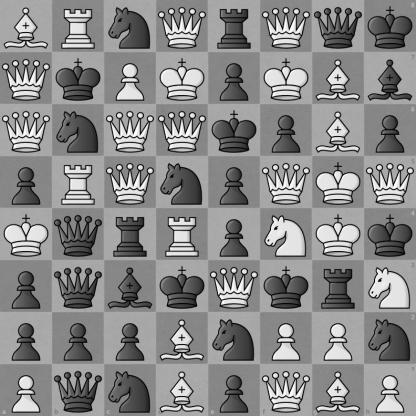B: (156, 364, 209, 416), (312, 364, 364, 416), (1, 1, 52, 52), (157, 313, 208, 364), (313, 53, 364, 104), (313, 105, 364, 156)
K: (1, 209, 52, 260), (157, 53, 208, 104), (261, 53, 312, 104), (313, 157, 364, 208), (313, 209, 364, 260)
N: (364, 260, 416, 312), (261, 209, 312, 260)
P: (0, 364, 52, 416), (364, 364, 416, 416), (105, 53, 156, 104), (261, 313, 312, 364), (313, 313, 364, 364)
Q: (364, 156, 416, 209), (260, 364, 312, 416), (1, 53, 52, 104), (1, 105, 52, 156), (105, 105, 156, 156), (105, 157, 156, 208), (157, 1, 208, 52), (157, 105, 208, 156), (209, 261, 260, 312), (261, 1, 312, 52), (261, 157, 312, 208)
R: (53, 1, 104, 52), (53, 157, 104, 208), (157, 209, 208, 260)
b: (364, 52, 416, 104), (105, 261, 156, 312)
board: (0, 0, 415, 415)
k: (364, 0, 416, 52), (364, 209, 416, 260), (53, 53, 104, 104), (157, 261, 208, 312), (209, 105, 260, 156), (261, 261, 312, 312)
n: (104, 364, 156, 416), (364, 312, 416, 364), (53, 105, 104, 156), (105, 1, 156, 52), (157, 157, 208, 208), (209, 313, 260, 364)
p: (364, 104, 416, 156), (209, 364, 260, 416), (1, 157, 52, 208), (1, 261, 52, 312), (1, 313, 52, 364), (53, 313, 104, 364), (105, 313, 156, 364), (209, 53, 260, 104), (209, 157, 260, 208), (209, 209, 260, 260), (261, 105, 312, 156)
q: (52, 364, 104, 416), (53, 209, 104, 260), (53, 261, 104, 312), (313, 1, 364, 52)
r: (105, 209, 156, 260), (209, 1, 260, 52), (313, 261, 364, 312)
